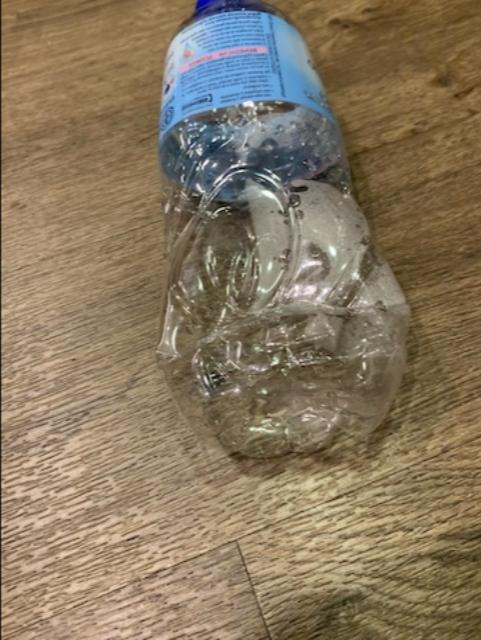plastic: (160, 0, 410, 454)
